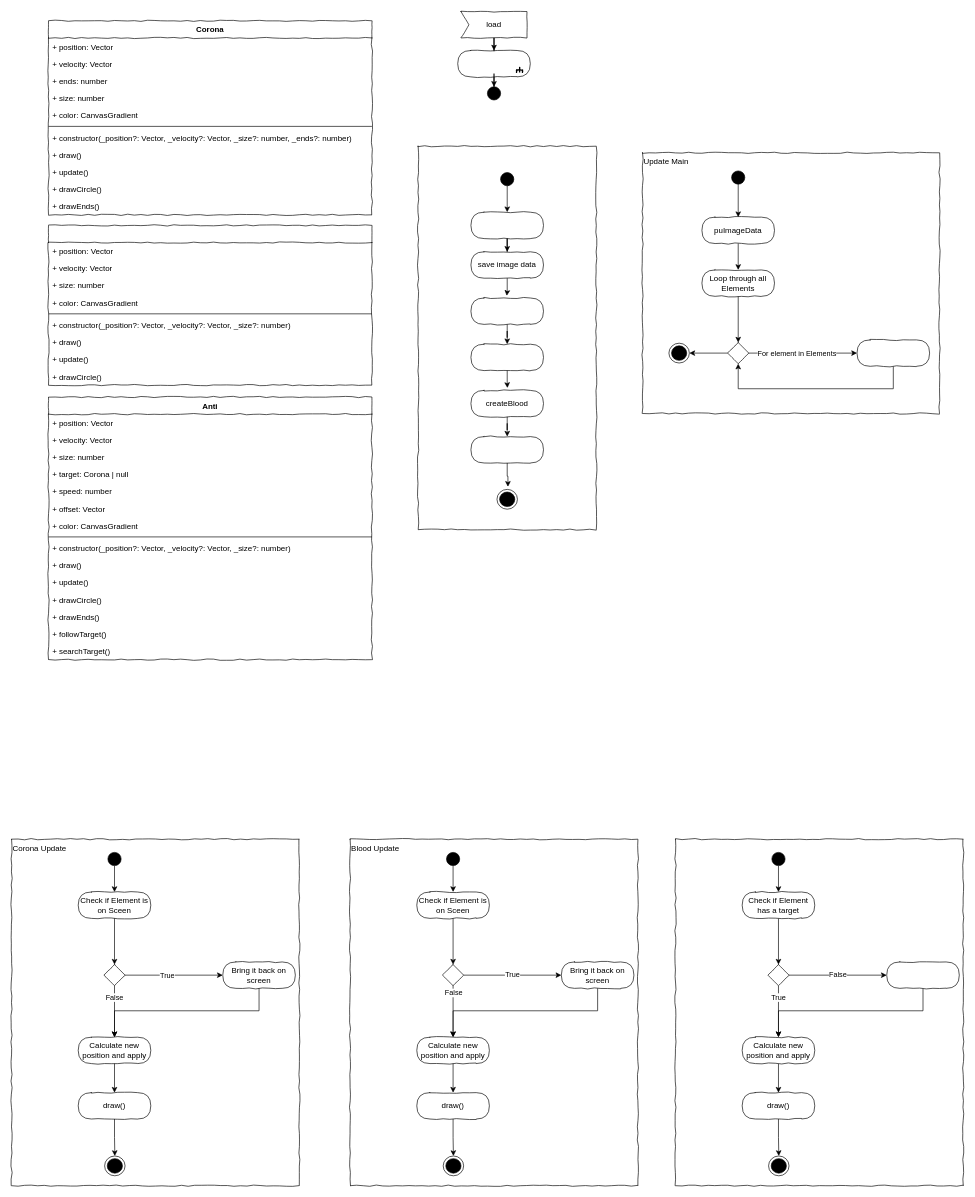
Some shapes in this 975 by 1197 pixel diagram are drawn without their labels. The shapes that lost their labels are listed below. From the top down, each one's box as (x1, y1, x2, y2) in pixels, then its label:
(457, 50, 530, 77): handleLoad()
(470, 212, 544, 239): drawBackground()
(48, 225, 372, 385): Blood
(470, 297, 544, 324): createCorona
(417, 146, 596, 530): handleLoad
(470, 344, 544, 371): createAnti
(856, 339, 930, 366): call element.update()
(470, 436, 544, 463): start update Loop
(886, 961, 959, 988): Search for target
(675, 839, 963, 1186): Anti Update
